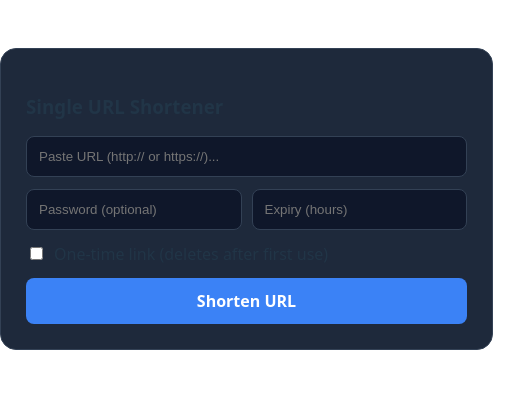
Test: UrlShortener Component › should display error message on API failure
Type "https://example.com" into the field with placeholder "Paste URL (http:// or https://)..." at (246, 156), box [26,136,467,177]
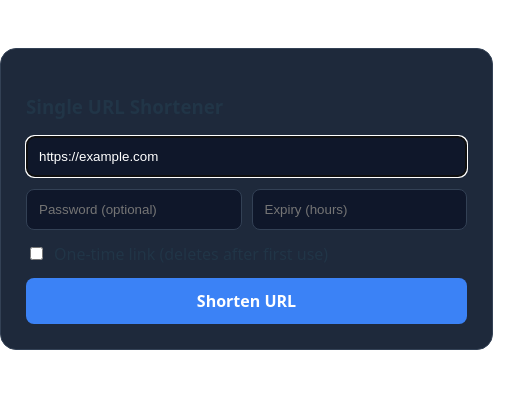
Click the button "Shorten URL" at (246, 301), box [26,278,467,324]
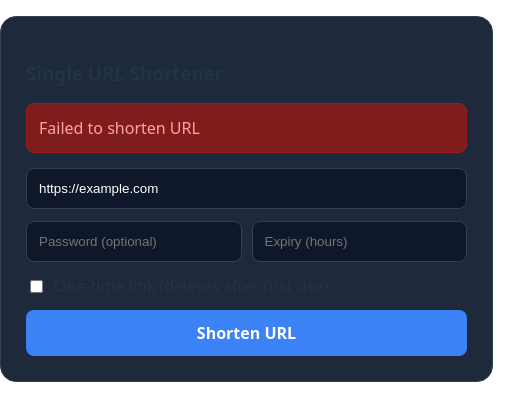
Result: the text "Failed to shorten URL" is shown at [26,103,467,153]
